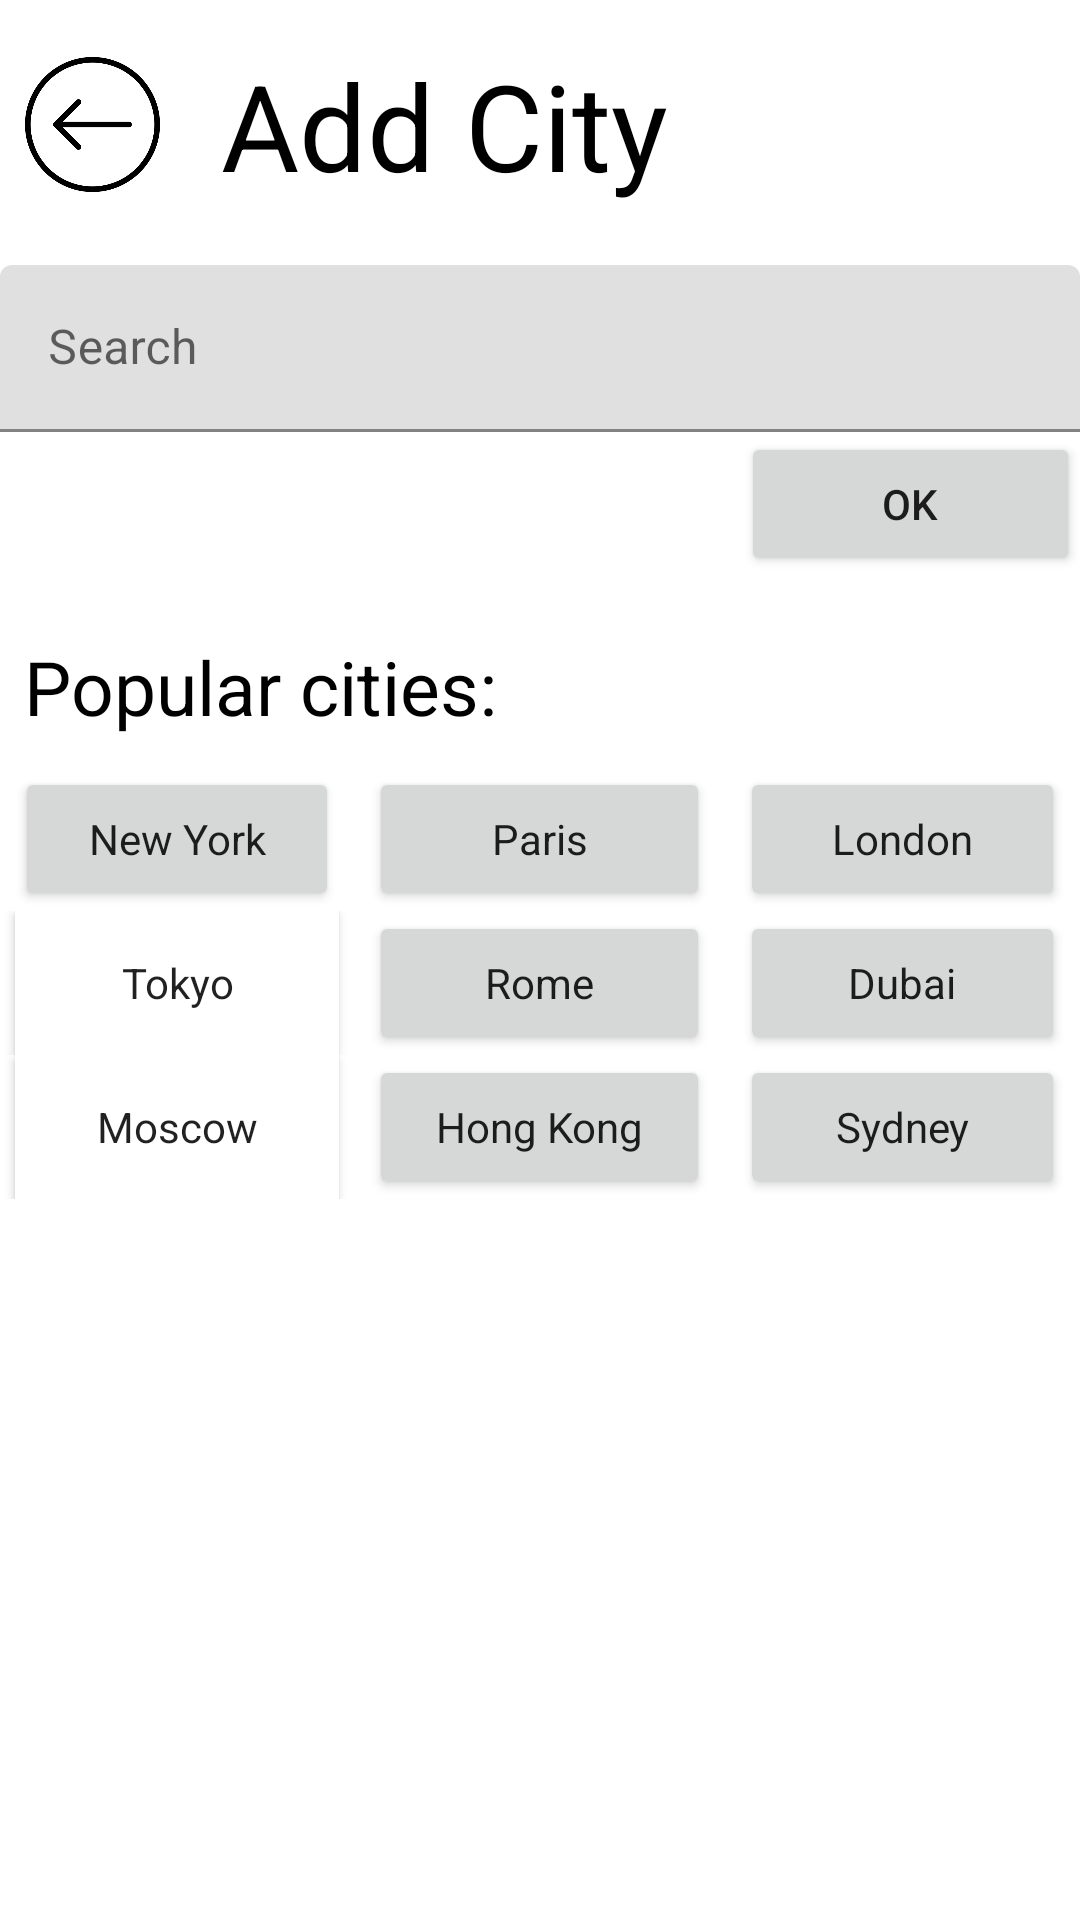

Icon click points for this 1080*1920 phone screenshot, format [x,y]:
back: [92,124]
